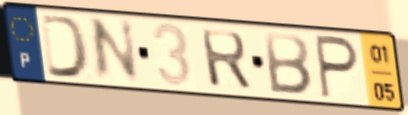3: (151, 21, 196, 91)
B: (262, 30, 314, 98)
D: (39, 12, 93, 82)
N: (88, 16, 142, 84)
P: (313, 31, 361, 102)
R: (198, 27, 254, 93)
